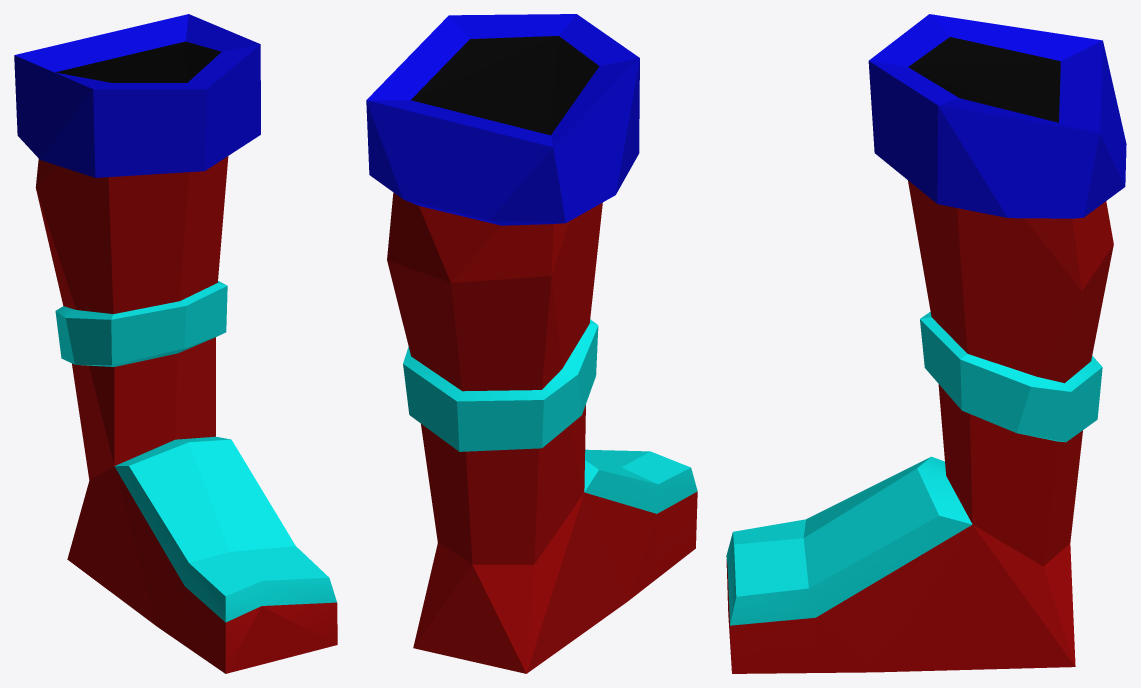
File: Chr_LegRight_Male_Static_18.fbx
3 views of the same model, side by side, from view 1: azimuth 30°, elevation 25°; view 2: azimuth 150°, elevation 25°; view 3: azimuth 270°, elevation 25° (orthographic). The views are drawn at different scales.
Visible parts, largest first — view 1: Chr_LegRight_Male_18; view 2: Chr_LegRight_Male_18; view 3: Chr_LegRight_Male_18.
Boxes of the visible parts, x1,y1,x2,y2 form: Chr_LegRight_Male_18: [14, 14, 337, 673]; Chr_LegRight_Male_18: [366, 14, 697, 673]; Chr_LegRight_Male_18: [726, 14, 1126, 673].
Bounding box in the file's own units: 16.45 × 40.99 × 25.73.
